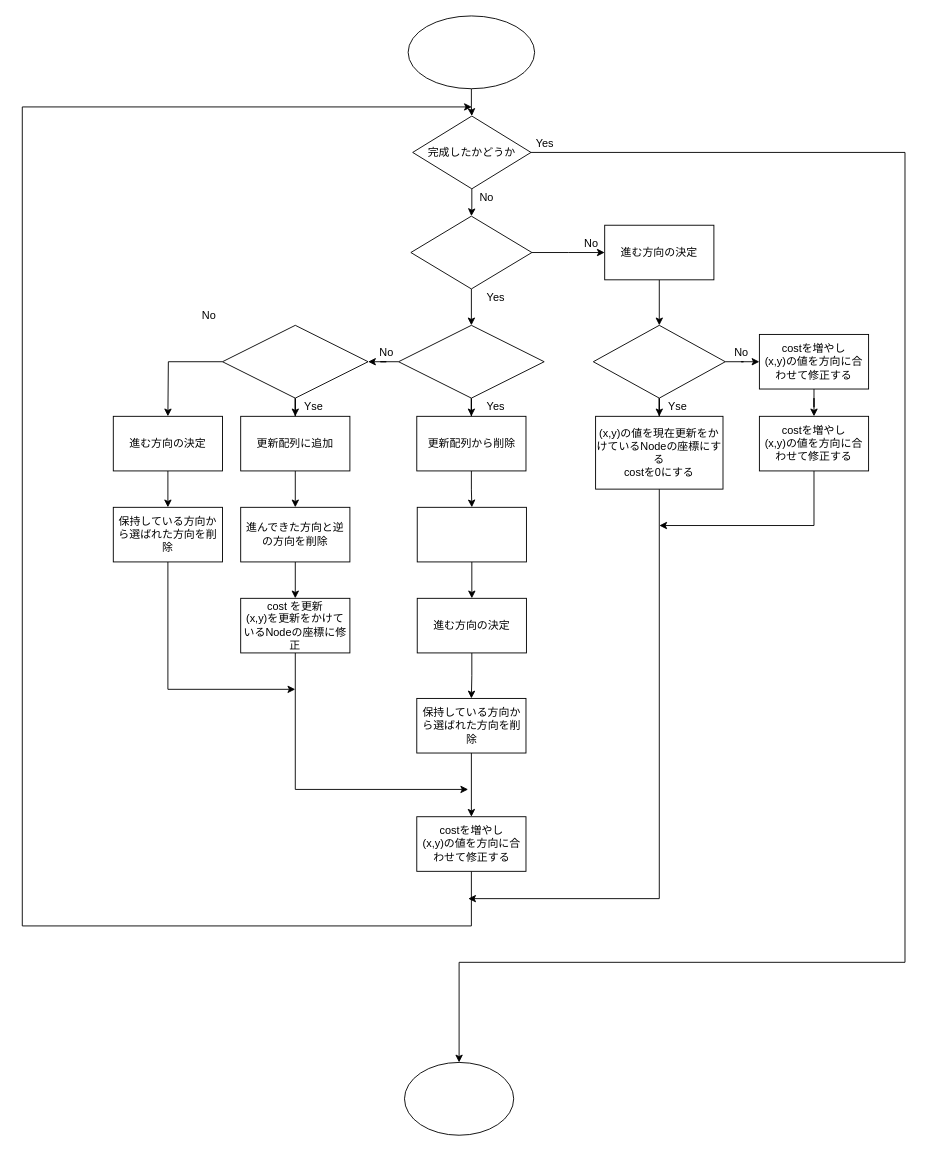
The diagram is 928 pixels wide and 1151 high, and some of its shapes have lost their labels. The shapes that lost their labels are listed below. From the top down, each one's box as (x1, y1, x2, y2) in pixels, then its label:
(407, 15, 535, 89): 開始
(410, 215, 532, 289): Nodeかどうか
(222, 324, 368, 398): このNodeは更新配列 に含まれていないか？
(398, 324, 544, 398): 保持している方向が 0か？
(592, 324, 725, 398): 行き止まりかどうか
(416, 506, 526, 562): 更新するNodeを変更
(404, 1062, 514, 1135): 終了
